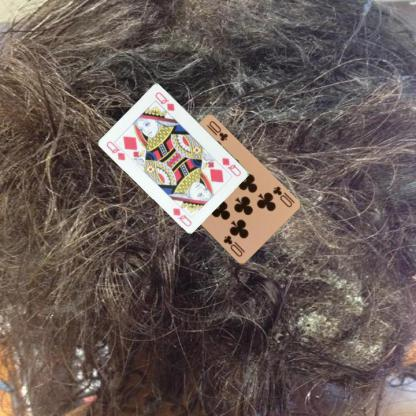10c: (270, 184, 293, 208)
Qd: (104, 138, 132, 162), (219, 155, 243, 177)
